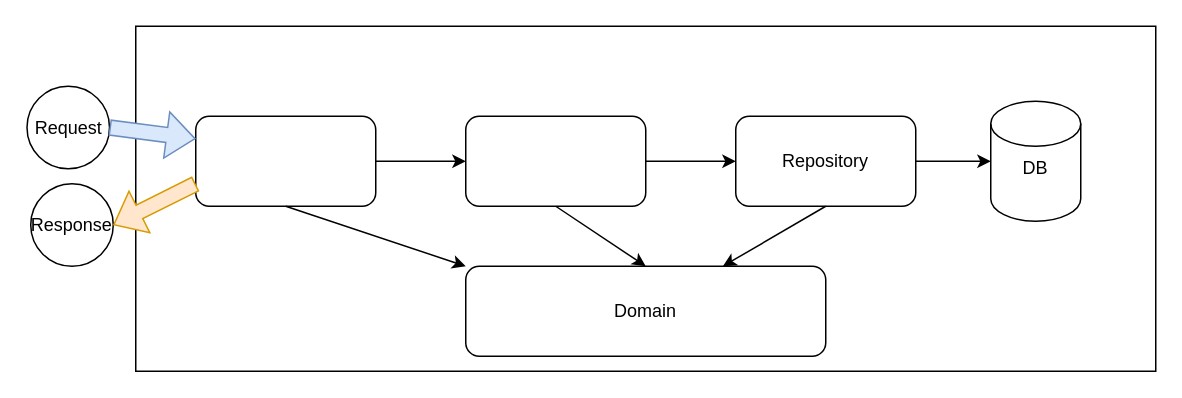
Image size: 1182x398. Some labels were removed from this diagram. Each missing label, with the box of its shape:
HTTP API: (194, 115, 376, 206)
Services: (464, 115, 646, 206)
